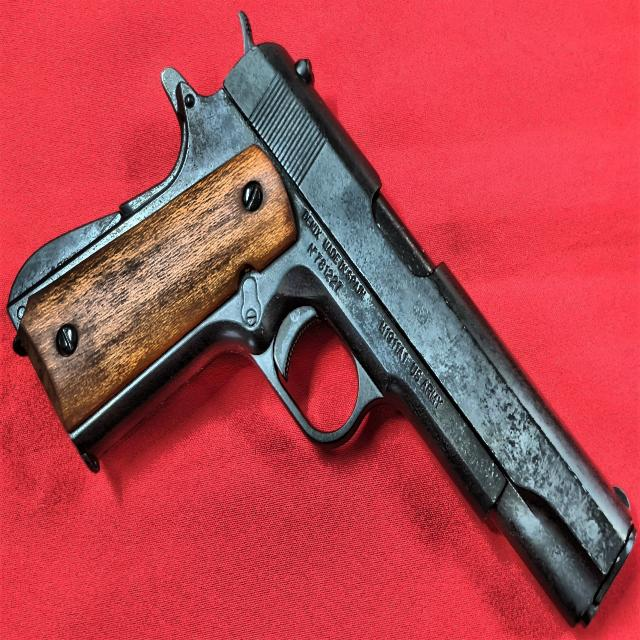Colt m1911: (7, 9, 636, 630)
